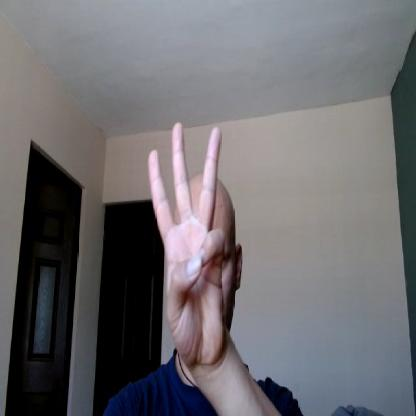W: (146, 122, 238, 366)
